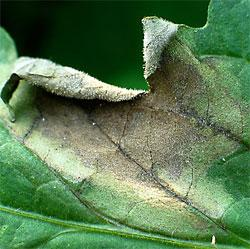Tomato leaf mosaic virus: (4, 15, 250, 249)
